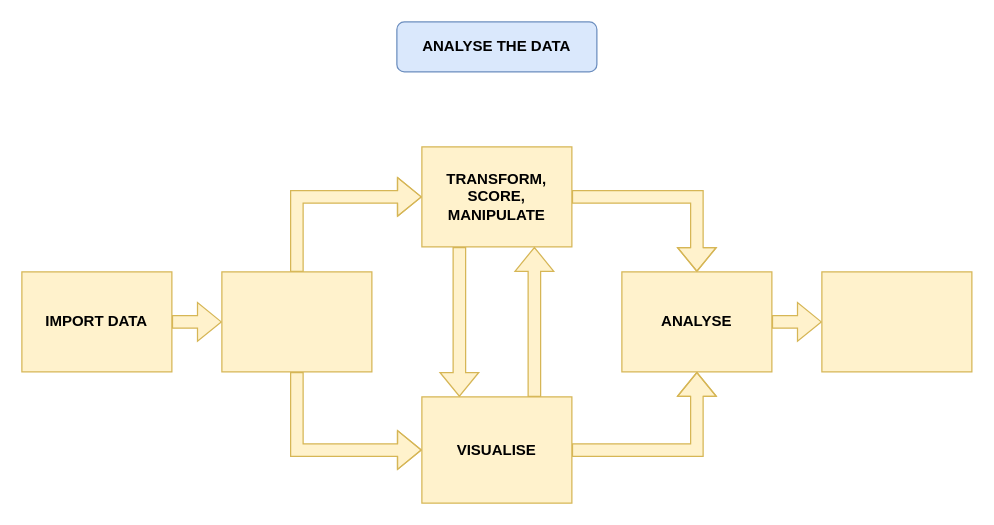
The diagram is 994 pixels wide and 525 high, and some of its shapes have lost their labels. The centre of each missing label's shape, as x and y in pixels:
"REPORT" goes at (896,321).
"TIDY THE DATA" goes at (296,321).
